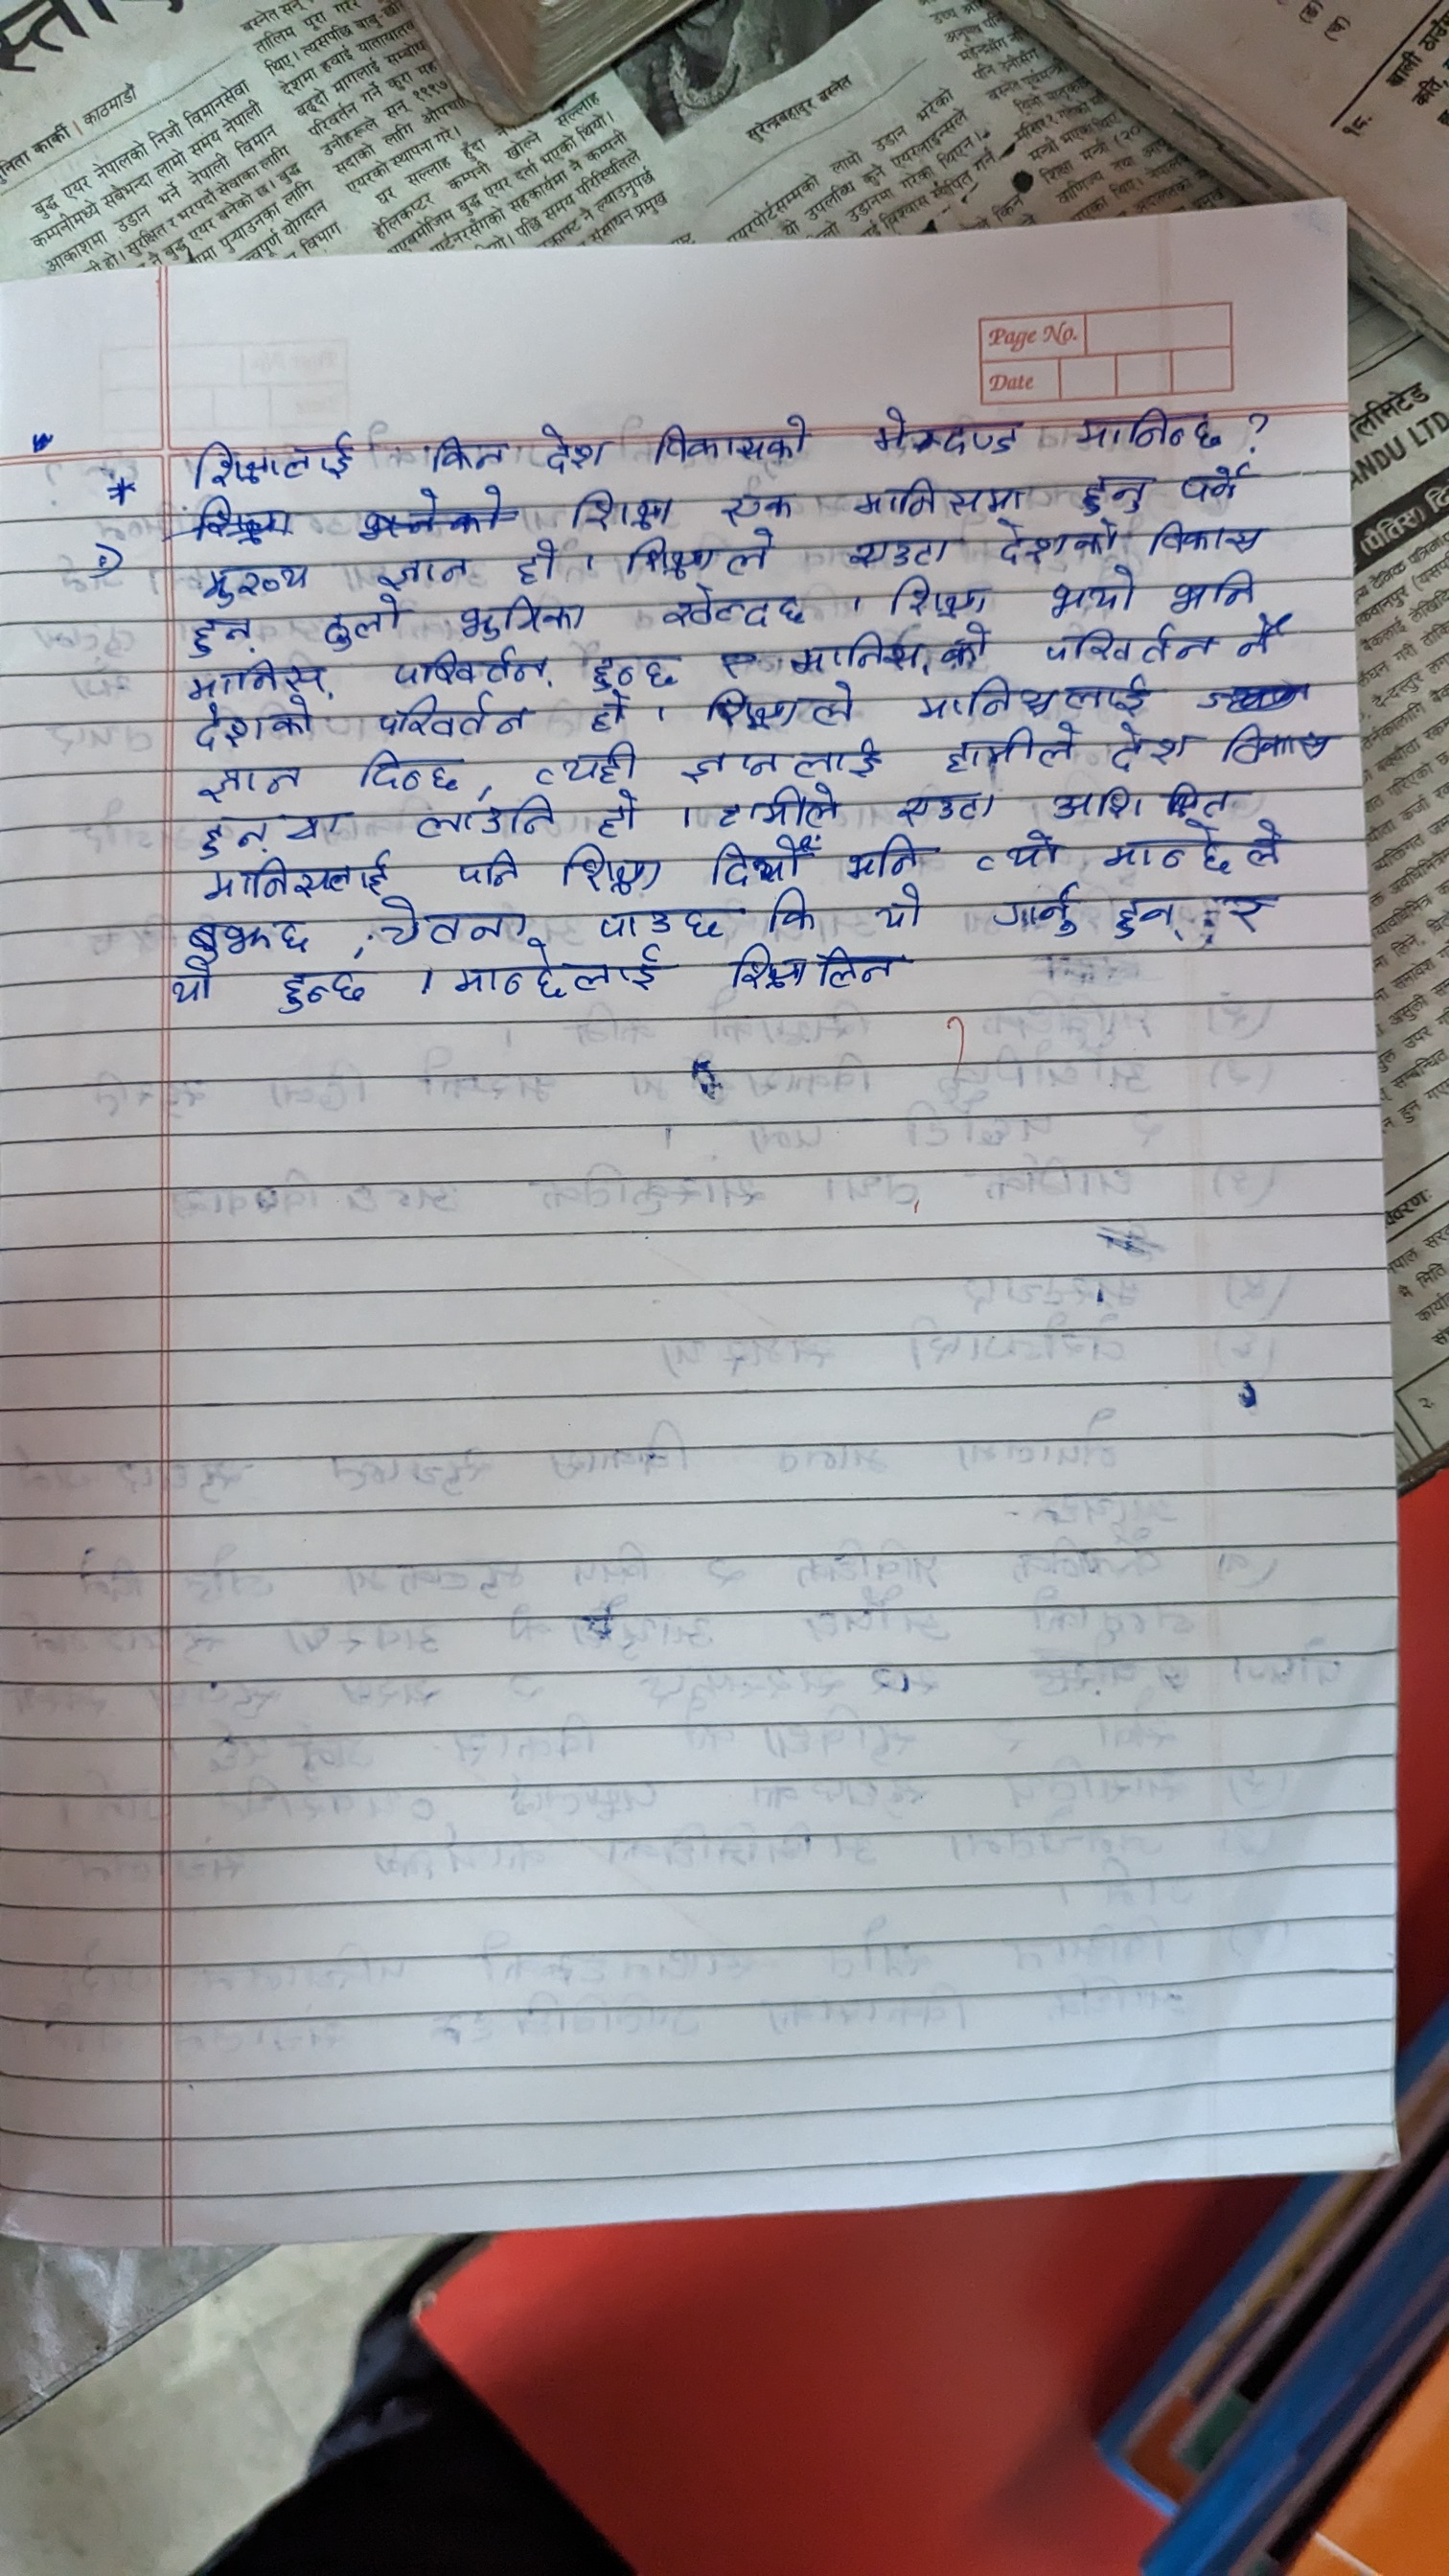text: (451, 941, 665, 1007), (182, 423, 361, 488), (916, 676, 1157, 720), (676, 736, 895, 782), (639, 410, 816, 467), (856, 402, 1021, 455), (646, 582, 819, 630), (363, 692, 529, 741), (704, 681, 863, 732), (1069, 403, 1233, 453), (189, 809, 359, 856), (207, 856, 400, 897), (409, 793, 570, 840), (1109, 819, 1233, 879), (849, 476, 1030, 515), (379, 893, 525, 941), (982, 517, 1120, 566), (939, 722, 1076, 771), (616, 536, 780, 577), (701, 833, 819, 888), (786, 630, 932, 674), (391, 648, 557, 686), (195, 699, 317, 750), (446, 596, 591, 639), (989, 876, 1083, 941), (715, 784, 842, 832), (180, 915, 315, 959), (184, 660, 341, 697), (556, 844, 672, 893), (589, 899, 729, 939), (876, 573, 998, 619), (357, 745, 469, 794), (265, 964, 377, 1014), (525, 740, 642, 784), (1221, 724, 1341, 766), (200, 561, 313, 605), (1040, 566, 1141, 616), (1108, 885, 1185, 948), (570, 487, 676, 533), (890, 782, 1001, 824), (977, 826, 1072, 876), (817, 939, 899, 996), (1104, 720, 1187, 775), (193, 766, 310, 805), (1161, 566, 1263, 610), (324, 594, 402, 649), (1168, 462, 1260, 508), (584, 651, 683, 694), (839, 832, 925, 879), (1042, 782, 1148, 821), (1148, 520, 1269, 554), (1159, 777, 1246, 821), (366, 554, 469, 591), (727, 948, 809, 994), (534, 425, 607, 476), (846, 536, 955, 570), (428, 432, 511, 474), (1217, 892, 1293, 936), (446, 847, 527, 888), (865, 879, 927, 931), (1072, 474, 1150, 515), (593, 782, 648, 839), (189, 616, 262, 655), (761, 883, 821, 929), (941, 619, 996, 669), (165, 959, 219, 1008), (718, 492, 800, 524), (504, 540, 557, 584), (1240, 814, 1284, 867), (582, 692, 630, 731), (717, 646, 763, 679)
